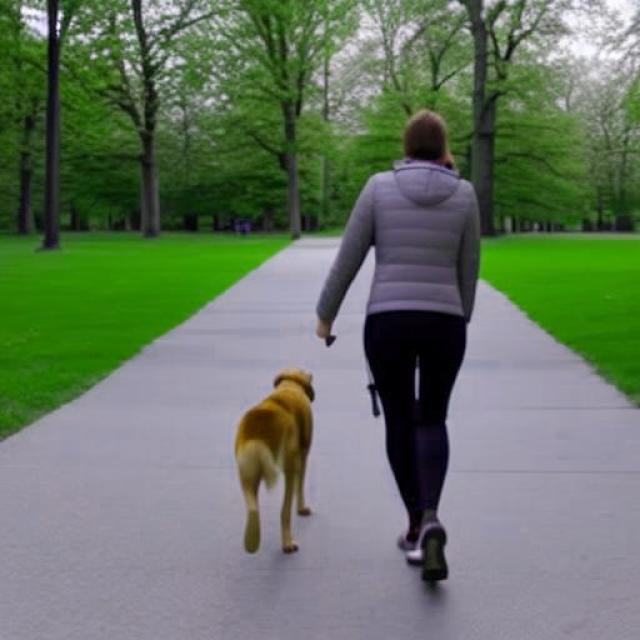Unleashed_Dog: (232, 316, 467, 588)
